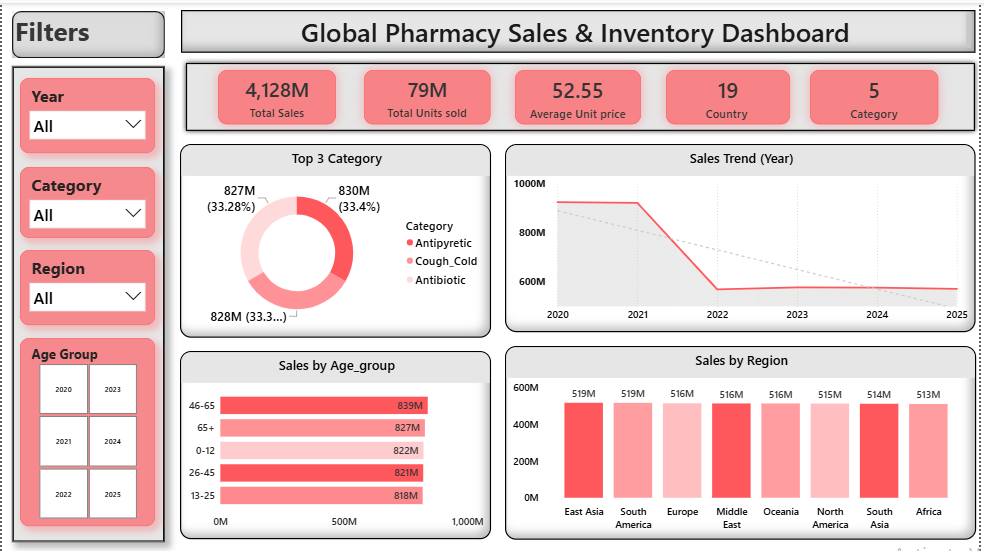

The dashboard page shown, as its layout file describes it:
{"tool":"powerbi","page":{"name":"Overview","canvas":[1600,900],"ordinal":0},"visuals":[{"type":"textbox","box":[293.4,10.8,1299.6,70.2],"z":0},{"type":"lineChart","title":"Sales Trend (Year)","fields":{"Category":["global_pharmacy_sales_2020_2025_daily_dataset.Year"],"Y":["Sum(global_pharmacy_sales_2020_2025_daily_dataset.Sales)"]},"box":[822.3,230.2,770.4,307.8],"z":1000},{"type":"columnChart","title":"Sales by Region","fields":{"Category":["global_pharmacy_sales_2020_2025_daily_dataset.Region"],"Y":["Sum(global_pharmacy_sales_2020_2025_daily_dataset.Sales)"]},"box":[822.3,560.9,770.9,317.3],"z":2000},{"type":"donutChart","title":"Top 3 Category","fields":{"Category":["global_pharmacy_sales_2020_2025_daily_dataset.Category"],"Y":["Sum(global_pharmacy_sales_2020_2025_daily_dataset.Sales)"]},"box":[290.5,230.2,509.5,317.3],"z":3000},{"type":"barChart","title":"Sales by Age_group","fields":{"Category":["global_pharmacy_sales_2020_2025_daily_dataset.Age_group"],"Y":["global_pharmacy_sales_2020_2025_daily_dataset.Total_sales"]},"box":[290.5,569.8,509.5,308.4],"z":4000},{"type":"shape","box":[16.2,102.6,250.2,779.4],"z":5000},{"type":"textbox","box":[15.6,11.2,239.1,91.6],"z":6000},{"type":"shape","box":[16.2,12.6,250.2,77.4],"z":7000},{"type":"slicer","fields":{"Values":["global_pharmacy_sales_2020_2025_daily_dataset.Year"]},"box":[29.5,122.7,220.9,122.7],"z":8000},{"type":"slicer","fields":{"Values":["global_pharmacy_sales_2020_2025_daily_dataset.Category"]},"box":[29.5,268.4,220.9,116.2],"z":9000},{"type":"slicer","fields":{"Values":["global_pharmacy_sales_2020_2025_daily_dataset.Region"]},"box":[29.5,404.2,220.9,122.7],"z":10000},{"type":"slicer","fields":{"Values":["global_pharmacy_sales_2020_2025_daily_dataset.Year"]},"box":[29.1,547.5,221.2,308.4],"z":11000},{"type":"shape","box":[292.7,89.4,1307.3,127.4],"z":12000},{"type":"card","fields":{"Values":["Avg(global_pharmacy_sales_2020_2025_daily_dataset.Unit_price)"]},"box":[840.2,109.5,205.6,89.4],"z":13000},{"type":"card","fields":{"Values":["Count(global_pharmacy_sales_2020_2025_daily_dataset.Country)"]},"box":[1086,109.5,203.4,89.4],"z":14000},{"type":"card","fields":{"Values":["Count(global_pharmacy_sales_2020_2025_daily_dataset.Category)"]},"box":[1322.9,109.5,210.1,89.4],"z":15000},{"type":"card","fields":{"Values":["Sum(global_pharmacy_sales_2020_2025_daily_dataset.Units_sold)"]},"box":[592.2,109.5,207.4,89.4],"z":16000},{"type":"card","title":"Total Sales","fields":{"Values":["Sum(global_pharmacy_sales_2020_2025_daily_dataset.Sales)"]},"box":[353.1,109.5,193.1,89.4],"z":17000}]}

Visuals, with their boxes in screenshot pixels (x1, y1, x2, y2), scaled from the page's 1600x900 canvas onto the 984x551 screenshot:
textbox: [180, 7, 980, 50]
"Sales Trend (Year)" lineChart: [506, 141, 980, 329]
"Sales by Region" columnChart: [506, 343, 980, 538]
"Top 3 Category" donutChart: [179, 141, 492, 335]
"Sales by Age_group" barChart: [179, 349, 492, 538]
shape: [10, 63, 164, 540]
textbox: [10, 7, 157, 63]
shape: [10, 8, 164, 55]
slicer - global_pharmacy_sales_2020_2025_daily_dataset.Year: [18, 75, 154, 150]
slicer - global_pharmacy_sales_2020_2025_daily_dataset.Category: [18, 164, 154, 235]
slicer - global_pharmacy_sales_2020_2025_daily_dataset.Region: [18, 247, 154, 323]
slicer - global_pharmacy_sales_2020_2025_daily_dataset.Year: [18, 335, 154, 524]
shape: [180, 55, 983, 133]
card - Avg(global_pharmacy_sales_2020_2025_daily_dataset.Unit_price): [517, 67, 643, 122]
card - Count(global_pharmacy_sales_2020_2025_daily_dataset.Country): [668, 67, 793, 122]
card - Count(global_pharmacy_sales_2020_2025_daily_dataset.Category): [814, 67, 943, 122]
card - Sum(global_pharmacy_sales_2020_2025_daily_dataset.Units_sold): [364, 67, 492, 122]
"Total Sales" card: [217, 67, 336, 122]
